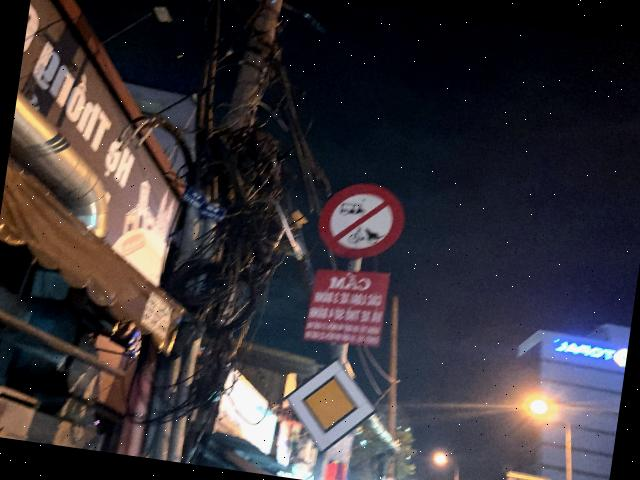bat-dau-duong-uu-tien: (276, 351, 384, 463)
cam-xe-3-banh-xe-tho-so-4-banh: (315, 176, 409, 266)
